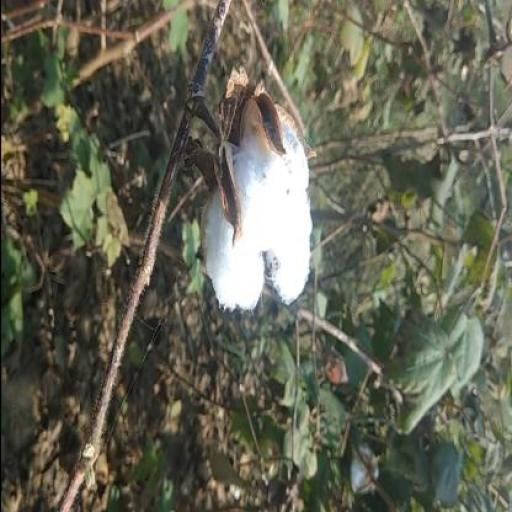cotton_ready: (174, 50, 326, 345)
